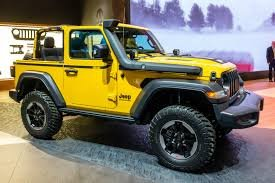mobil: (9, 10, 261, 166)
